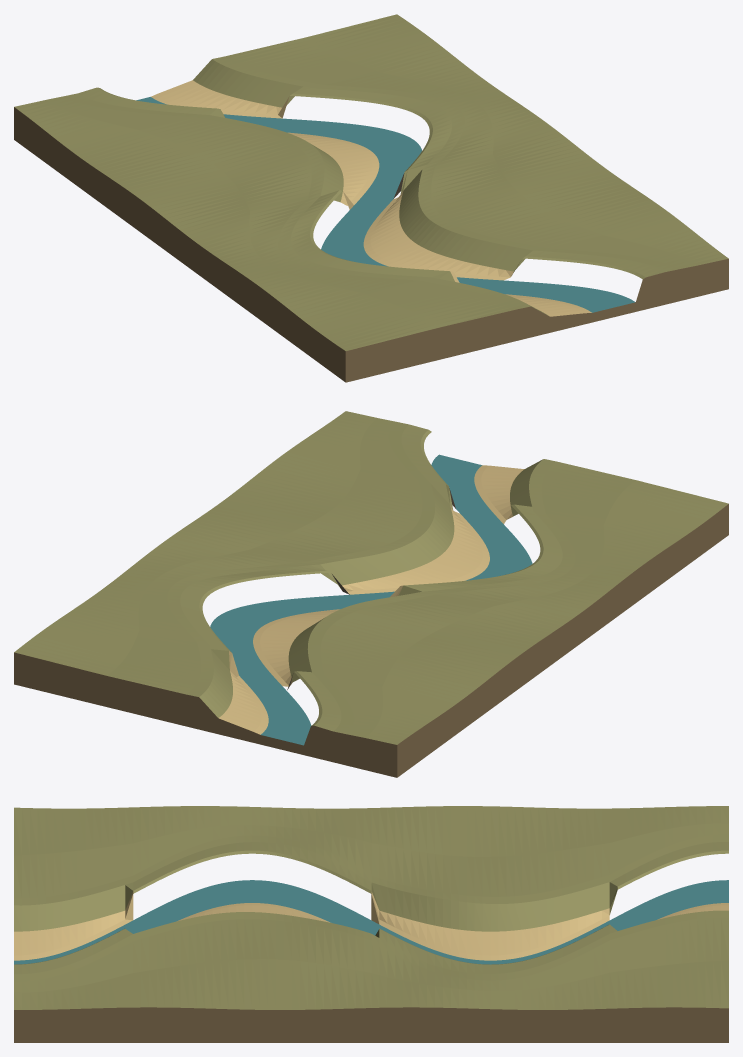
3 renders of one model, top to bottom at view 1: azimuth 30°, elevation 25°; view 2: azimuth 150°, elevation 25°; view 3: azimuth 270°, elevation 25°, orthographic. The views are drawn at different scales.
Visible parts, largest first — view 1: continuous_floodplain_channel_land, continuous_floodplain_channel_soil, continuous_floodplain_channel_sand, continuous_floodplain_channel_water; view 2: continuous_floodplain_channel_land, continuous_floodplain_channel_soil, continuous_floodplain_channel_water, continuous_floodplain_channel_sand; view 3: continuous_floodplain_channel_land, continuous_floodplain_channel_soil, continuous_floodplain_channel_sand, continuous_floodplain_channel_water.
Boxes of the visible parts, <box> form: continuous_floodplain_channel_land: <box>14,14,728,350</box>; continuous_floodplain_channel_soil: <box>14,107,728,382</box>; continuous_floodplain_channel_sand: <box>151,80,591,316</box>; continuous_floodplain_channel_water: <box>136,97,635,312</box>; continuous_floodplain_channel_land: <box>14,411,728,744</box>; continuous_floodplain_channel_soil: <box>14,504,728,777</box>; continuous_floodplain_channel_water: <box>210,454,532,745</box>; continuous_floodplain_channel_sand: <box>219,465,524,734</box>; continuous_floodplain_channel_land: <box>14,806,728,1009</box>; continuous_floodplain_channel_soil: <box>14,1007,728,1042</box>; continuous_floodplain_channel_sand: <box>14,891,728,960</box>; continuous_floodplain_channel_water: <box>14,880,728,964</box>.
Bounding box in the file's own units: 60 × 4.93 × 90.
